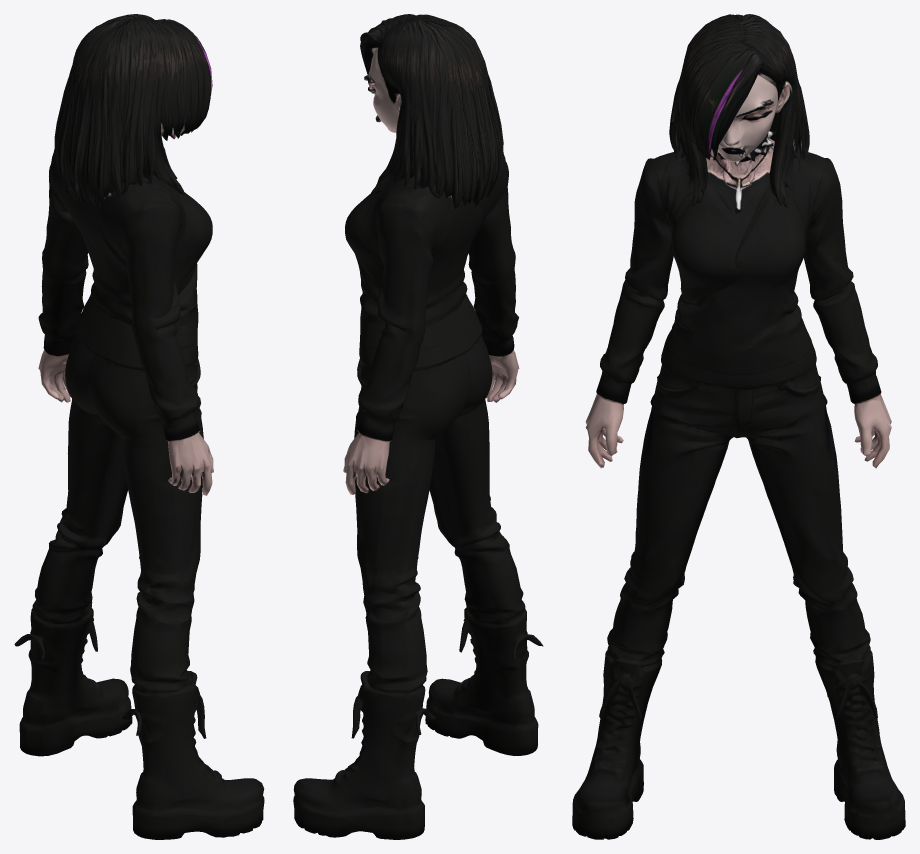
Rendered from lilith_modelo.glb.
The picture shows the model from 3 angles, left to right: view 1: azimuth 30°, elevation 25°; view 2: azimuth 150°, elevation 25°; view 3: azimuth 270°, elevation 25°; orthographic projection. The views are drawn at different scales.
Parts seen in each view (by area): view 1: tripo_node_850a3ad7-fdb7-4ba7-9a3d-d1ce513259e1; view 2: tripo_node_850a3ad7-fdb7-4ba7-9a3d-d1ce513259e1; view 3: tripo_node_850a3ad7-fdb7-4ba7-9a3d-d1ce513259e1.
Part boxes in pixels (bbox=[...]): tripo_node_850a3ad7-fdb7-4ba7-9a3d-d1ce513259e1: bbox=[14, 14, 264, 839]; tripo_node_850a3ad7-fdb7-4ba7-9a3d-d1ce513259e1: bbox=[293, 14, 543, 839]; tripo_node_850a3ad7-fdb7-4ba7-9a3d-d1ce513259e1: bbox=[572, 14, 905, 839].
Bounding box in the file's own units: 0.1862 × 1 × 0.3821.
1 material, 1 textured.
